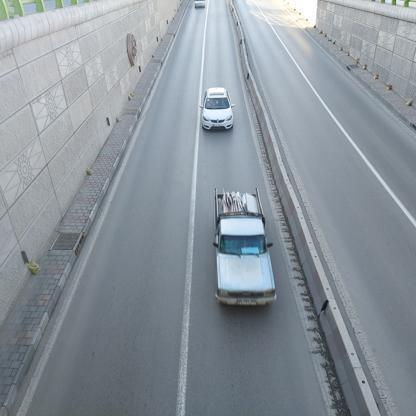Car: (208, 191, 278, 316), (197, 82, 238, 130)
